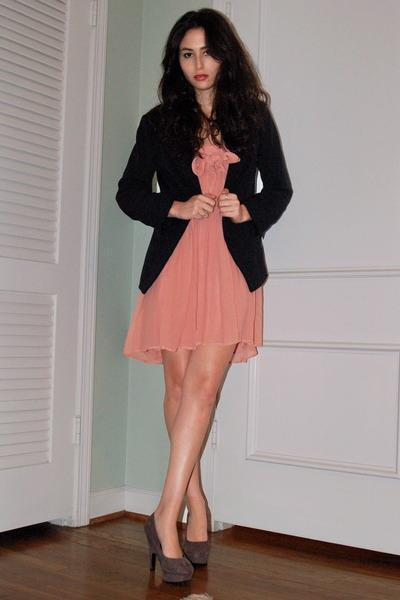dress: (123, 135, 263, 363)
jacket: (116, 108, 292, 293)
shoe: (141, 520, 208, 586)
